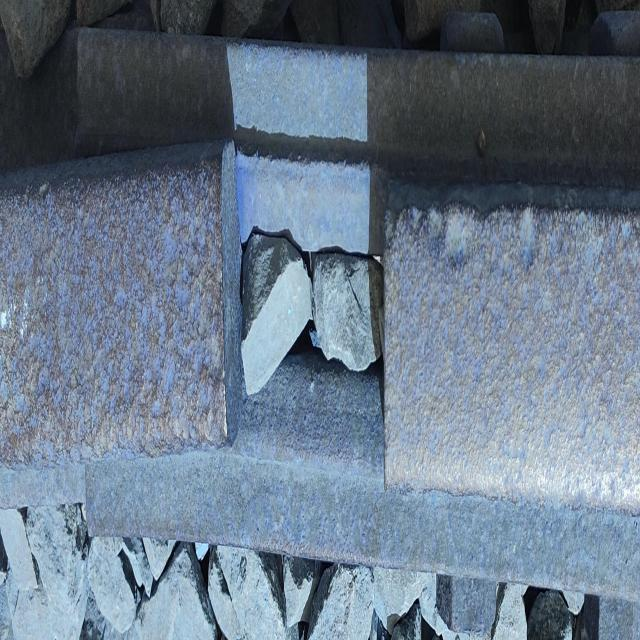broken_rail_high: (203, 14, 402, 548)
